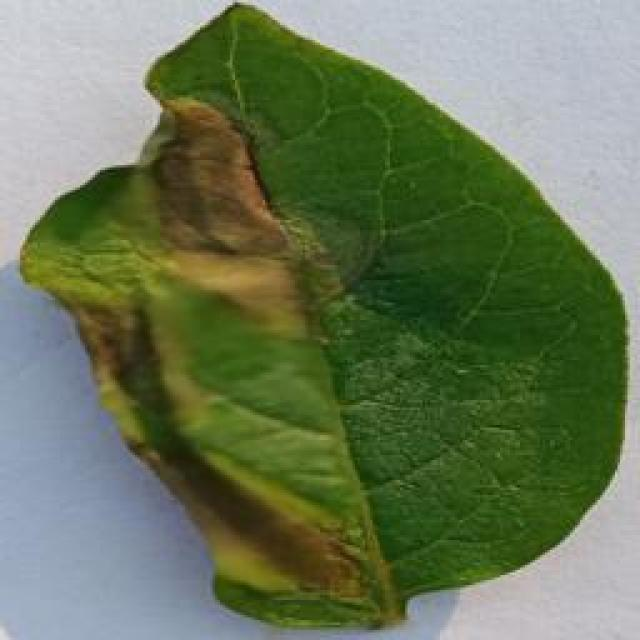Potato_Late_Blight: (20, 8, 614, 630)
